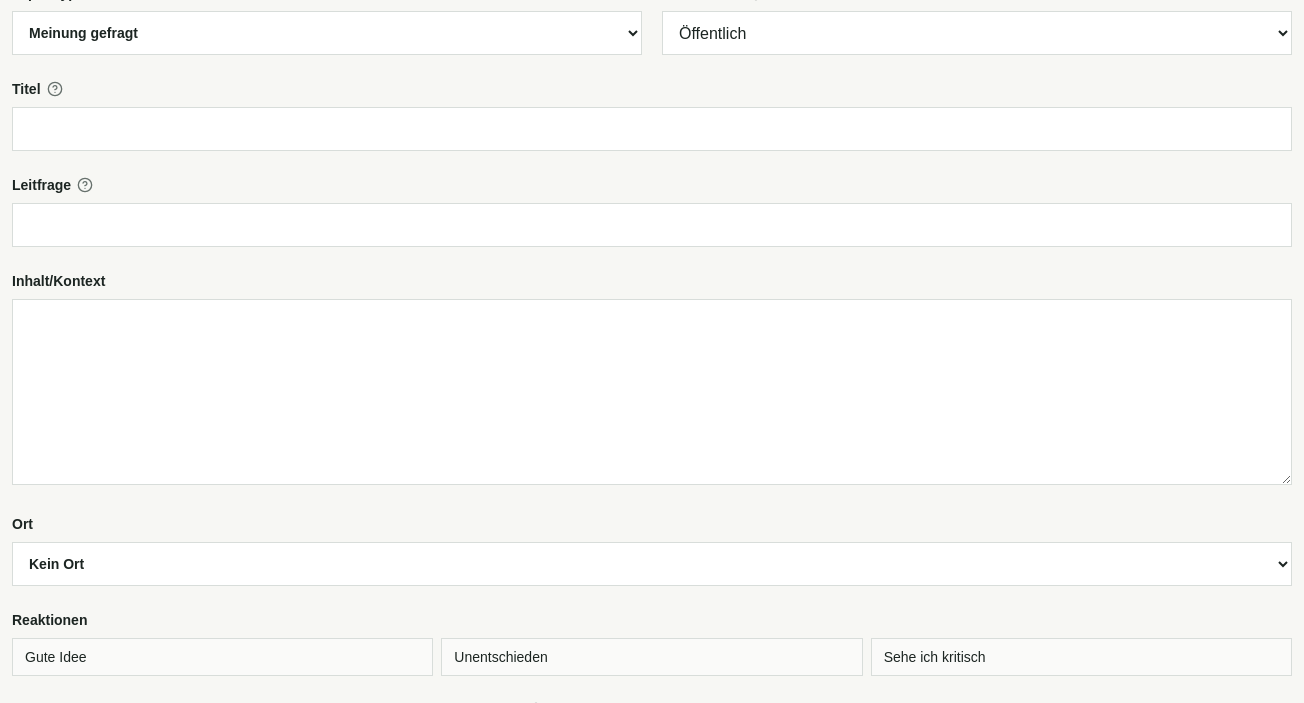
Test: TopicForm › shows the option editor and selection mode for votes
Select "Abstimmung" in the dropdown labelled "Topic-Typ" at (327, 33), box [12, 11, 642, 55]
(page scrolled)
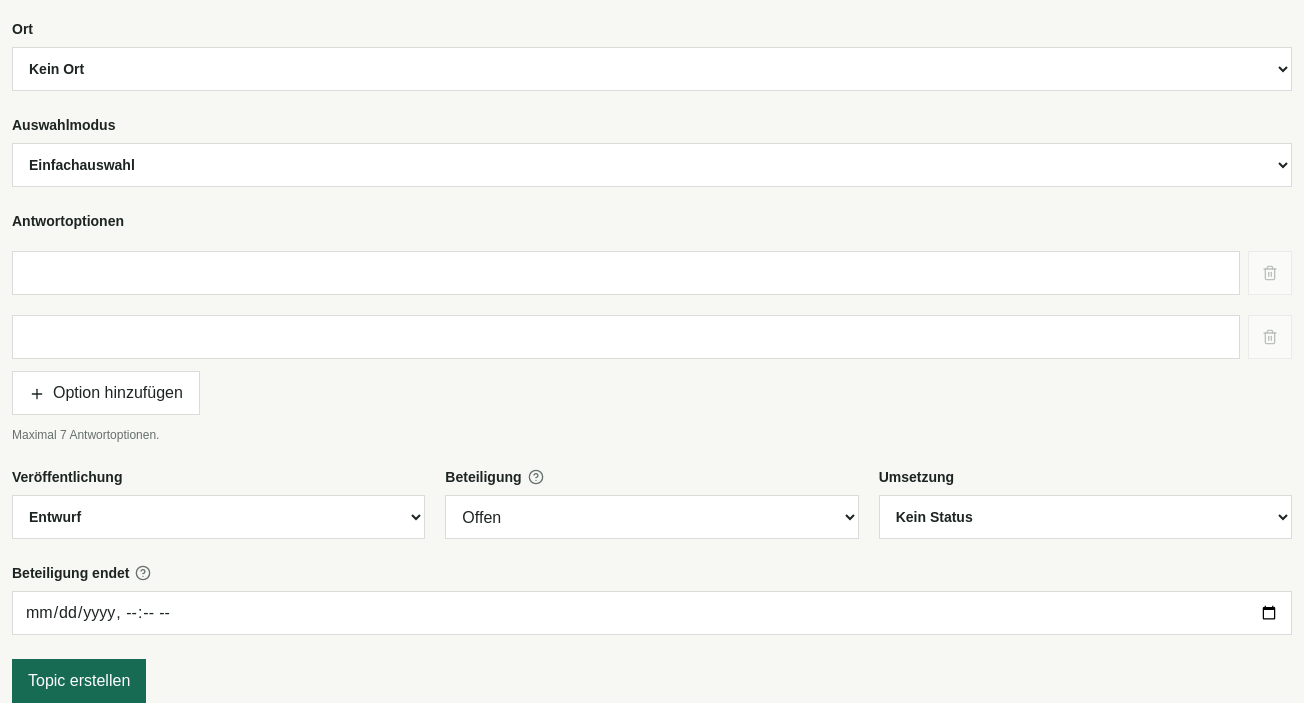
Expected: the dropdown labelled "Auswahlmodus" is shown, [12, 143, 1292, 187]
Expected: the field named "Antwortoption 1" is shown, [12, 251, 1240, 295]
Expected: the field named "Antwortoption 2" is shown, [12, 315, 1240, 359]
Click the button "Option hinzufügen" at (106, 393), box [12, 371, 200, 415]
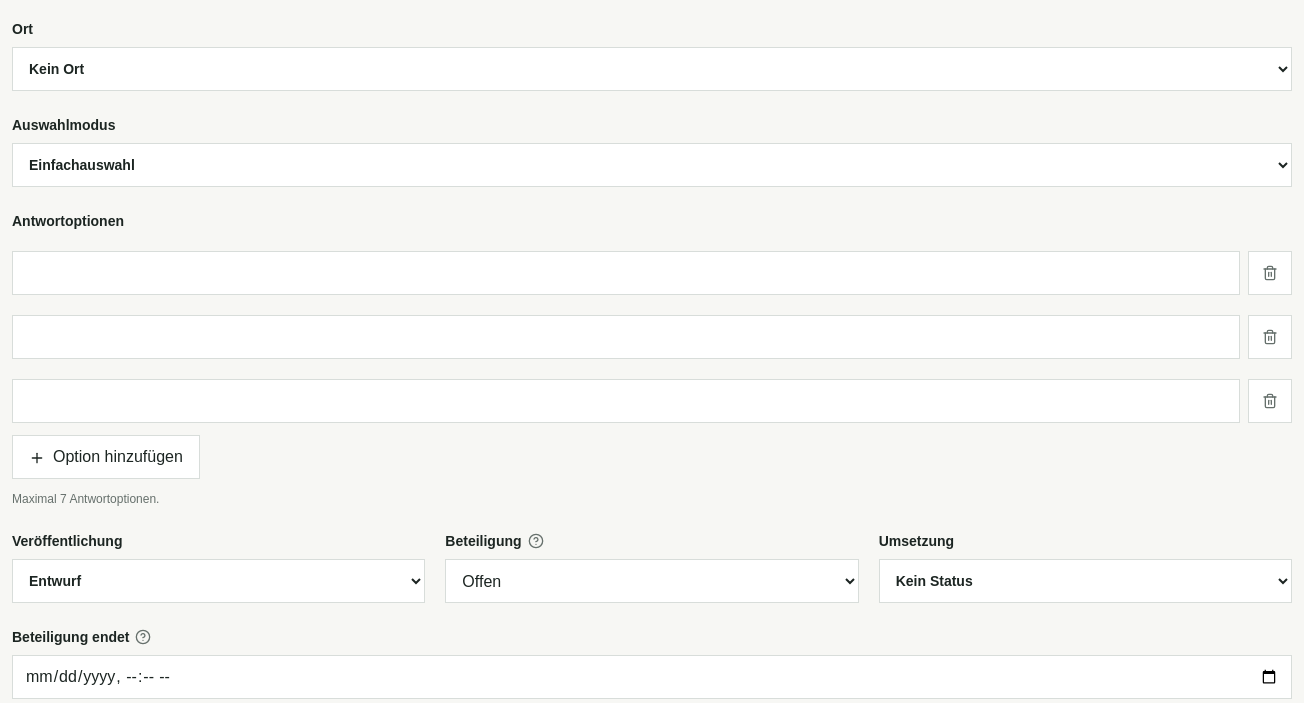
Expected: the field named "Antwortoption 3" is shown, [12, 379, 1240, 423]
